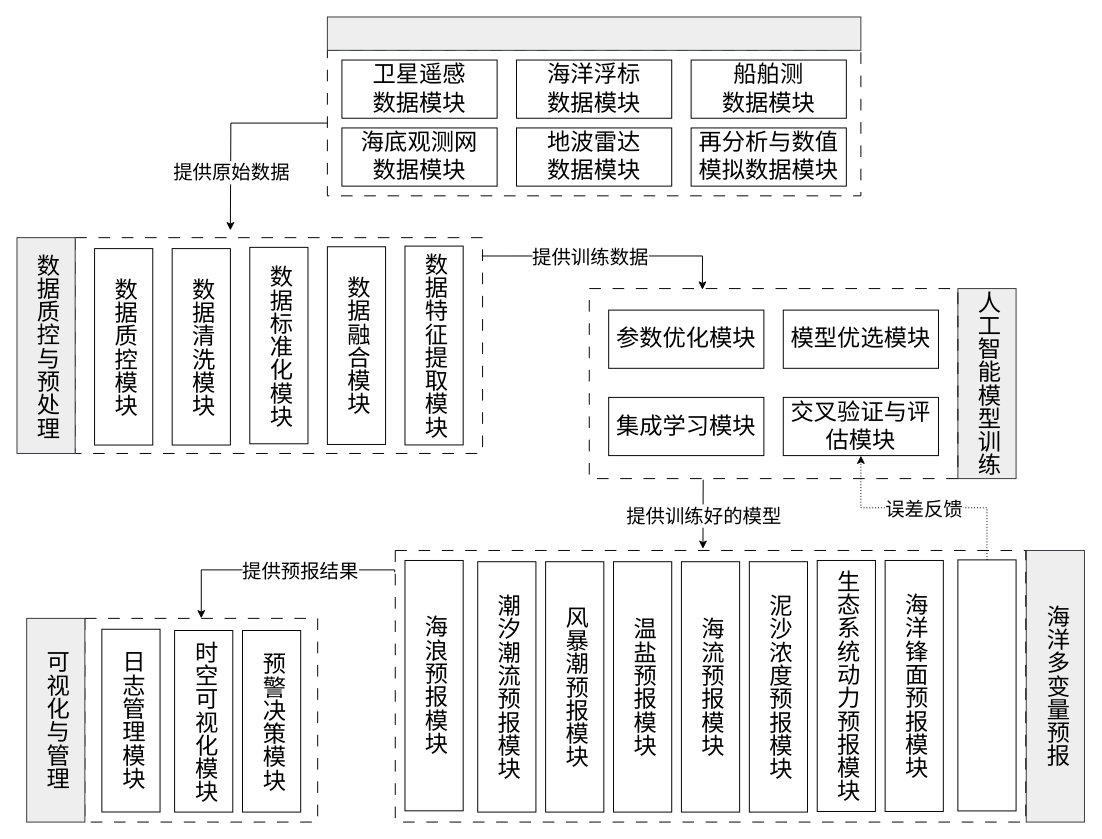
Image size: 1102x839. Some labels were removed from this diagram. Here are the shapes that lost their labels. From the top down, the box of each, then its label:
(326, 16, 861, 50): 数据采集
(957, 559, 1016, 811): 误差分析与反馈模块
